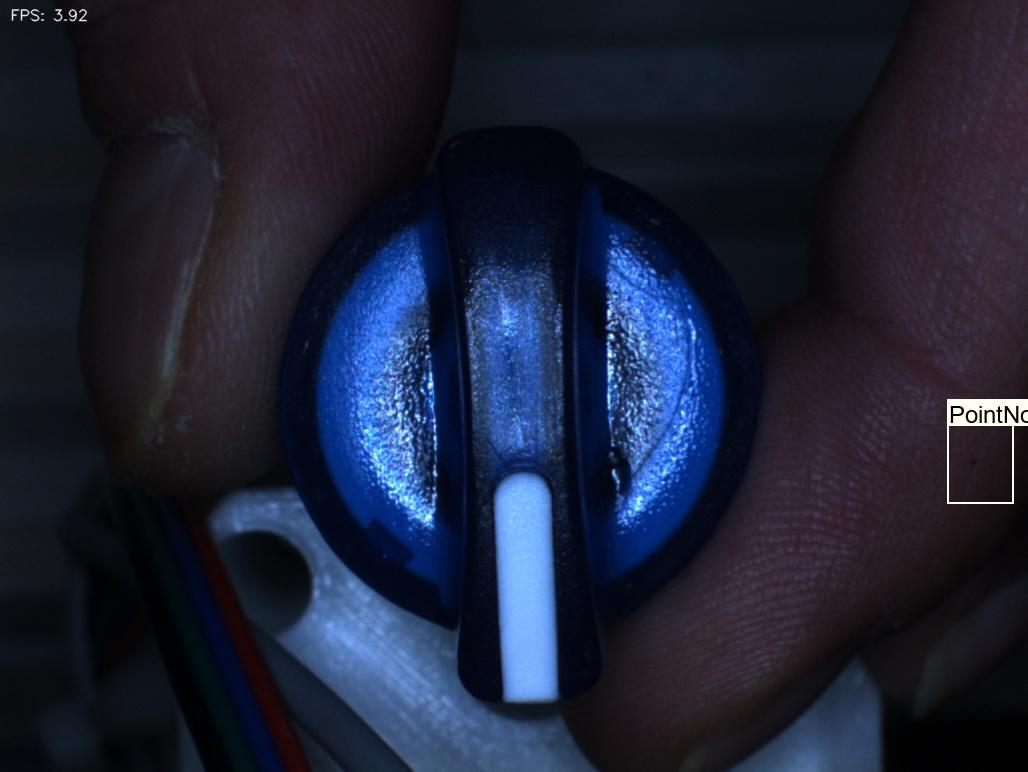Choc: (569, 431, 656, 523)
